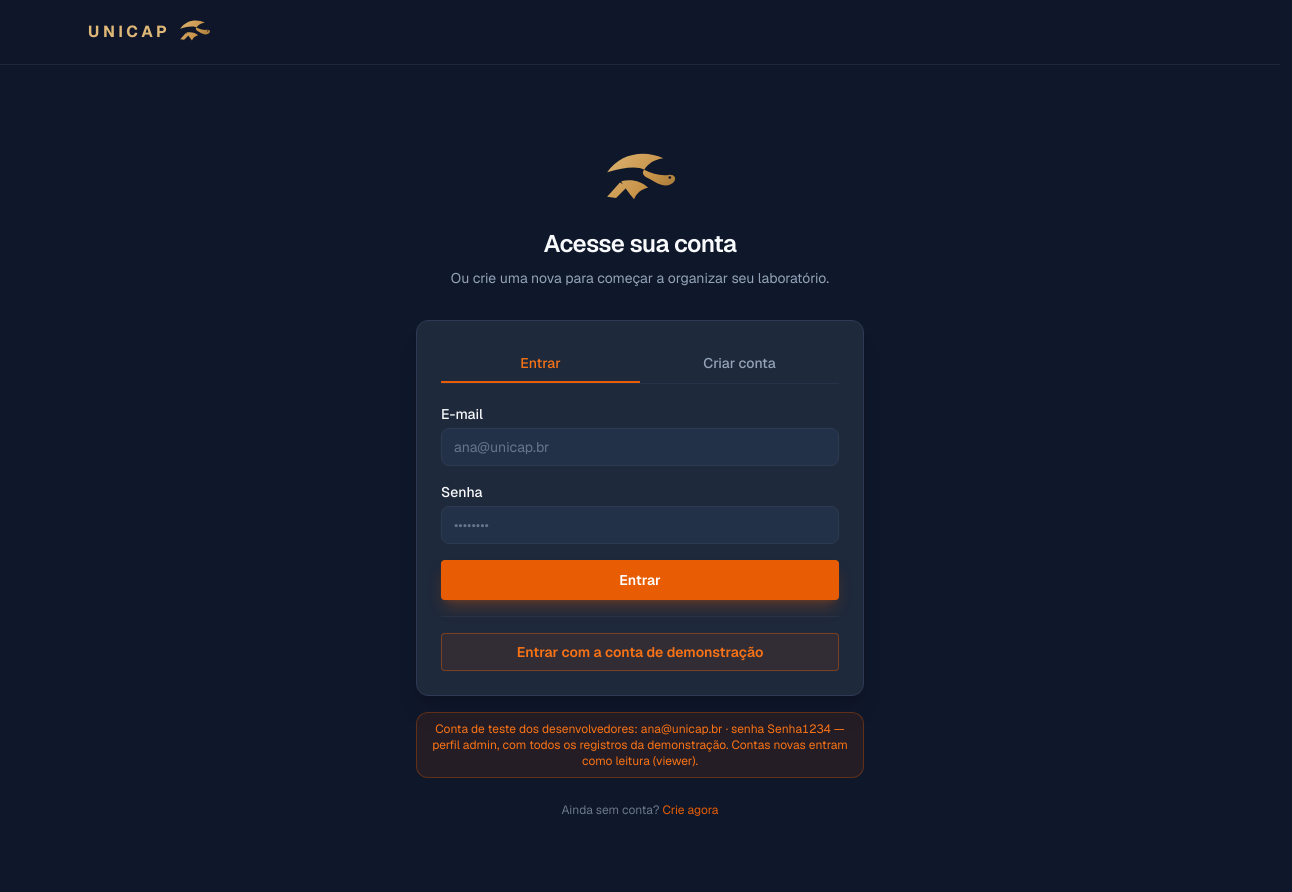
Test: Conta nova entra como usuário padrão (sem liberação manual) › na visão em grade, os cards do próprio projeto têm Editar
Check: the heading "Acesse sua conta" is shown, box [544,228,736,258]
Click the button "Criar conta" at (740, 364), box [640,344,839,382]
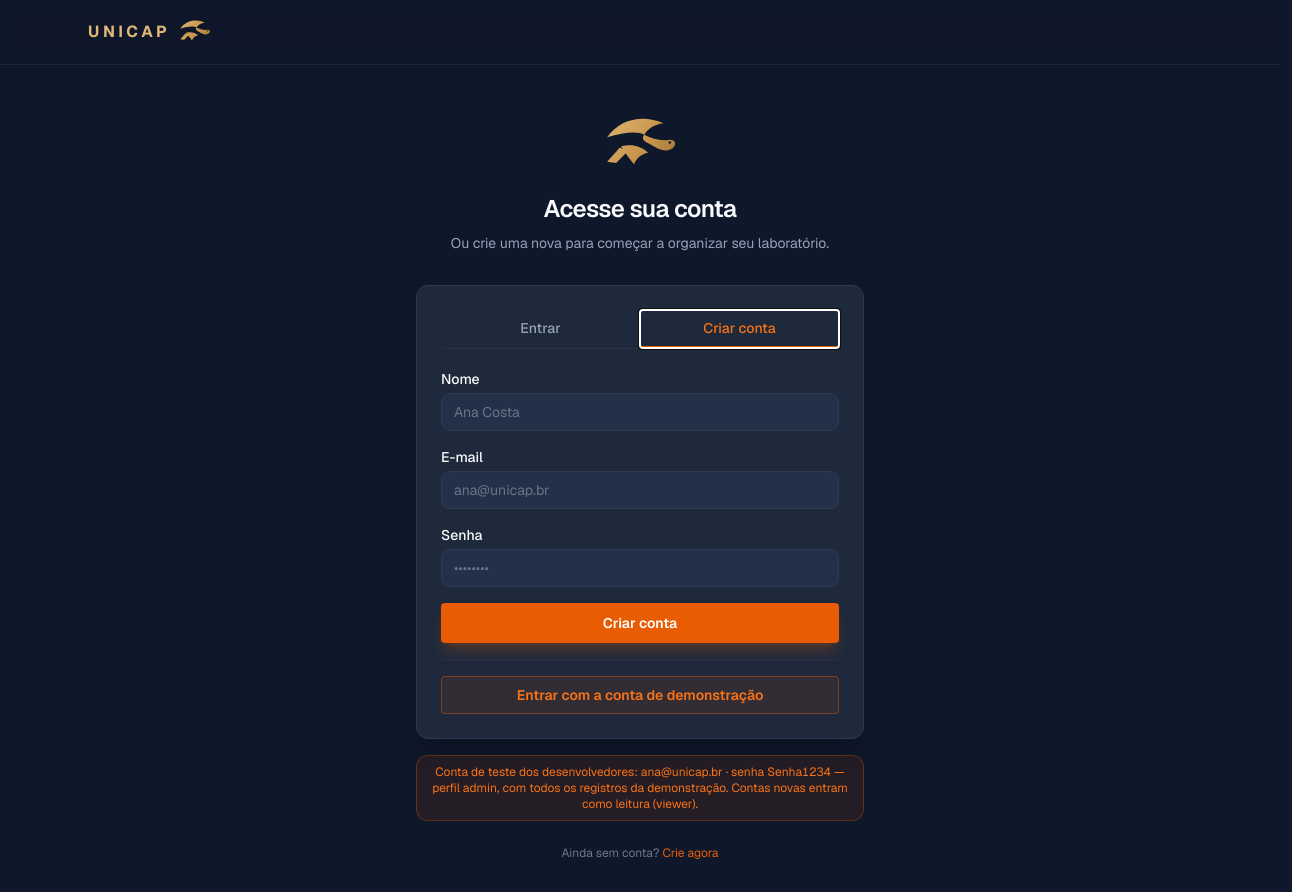
Type "Nova Pessoa" into the field with placeholder "Ana Costa" at (640, 412), box [441,393,839,431]
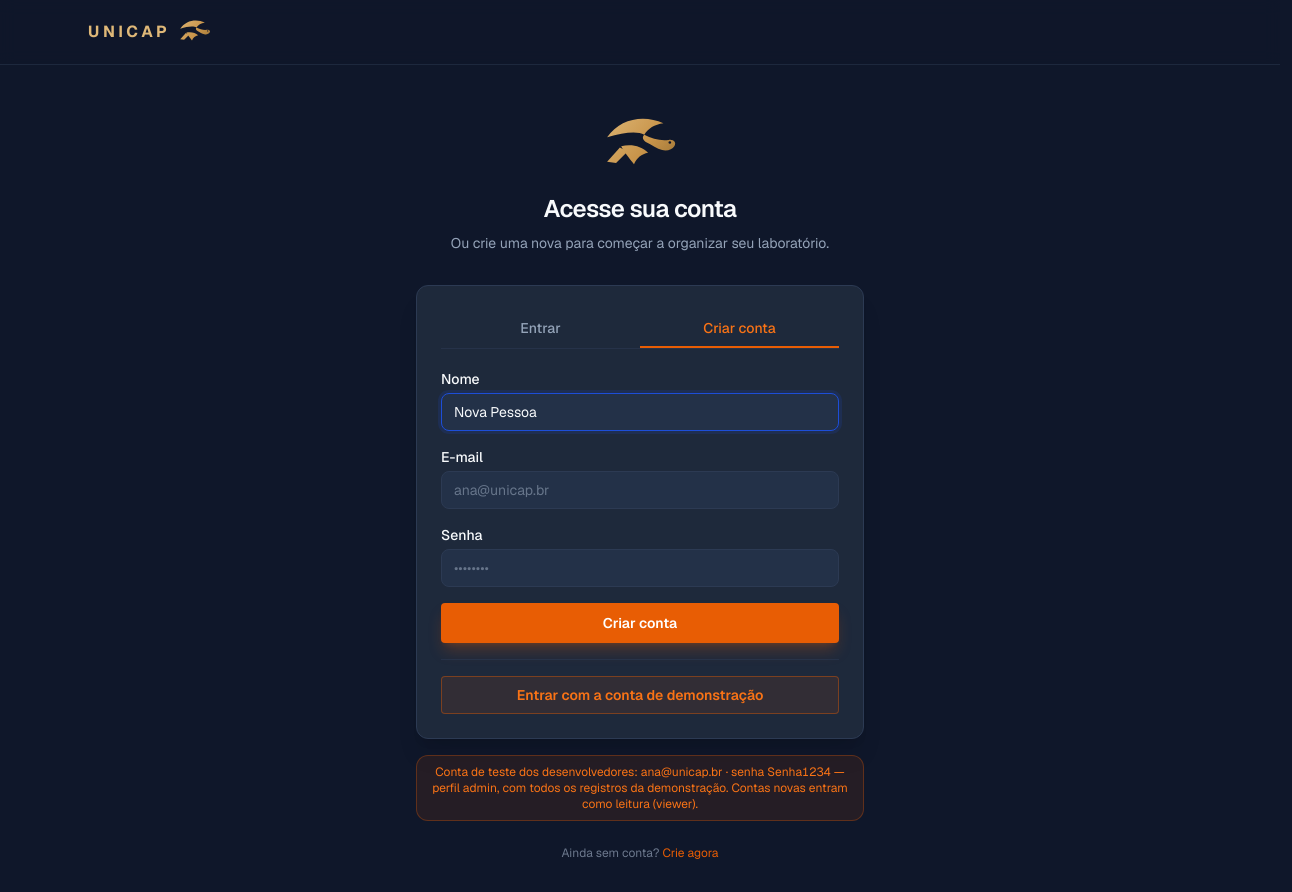
Type "viewer@unicap.br" into the field with placeholder "ana@unicap.br" at (640, 490), box [441,471,839,509]
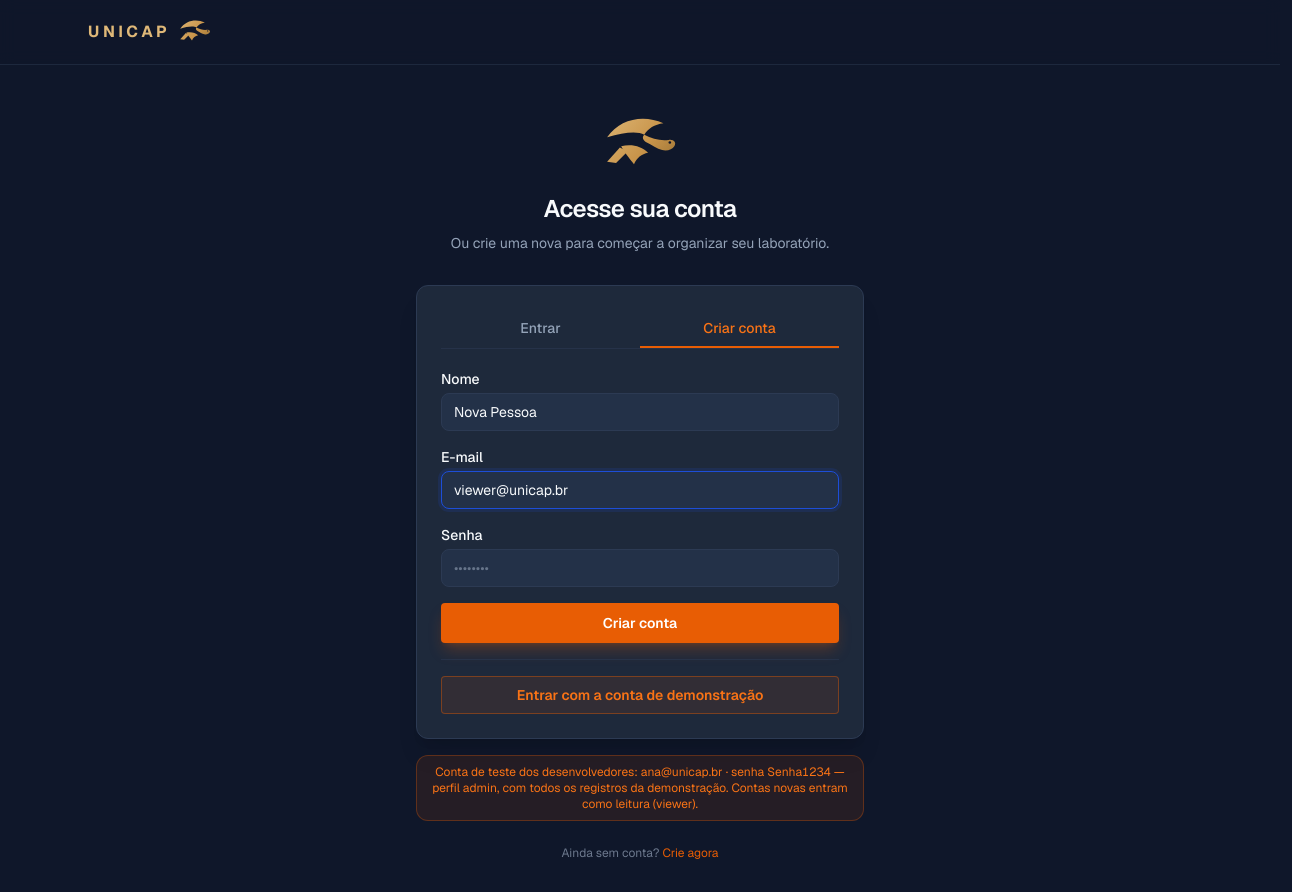
Type "Senha1234" into the password field with placeholder "••••••••" at (640, 568), box [441,549,839,587]
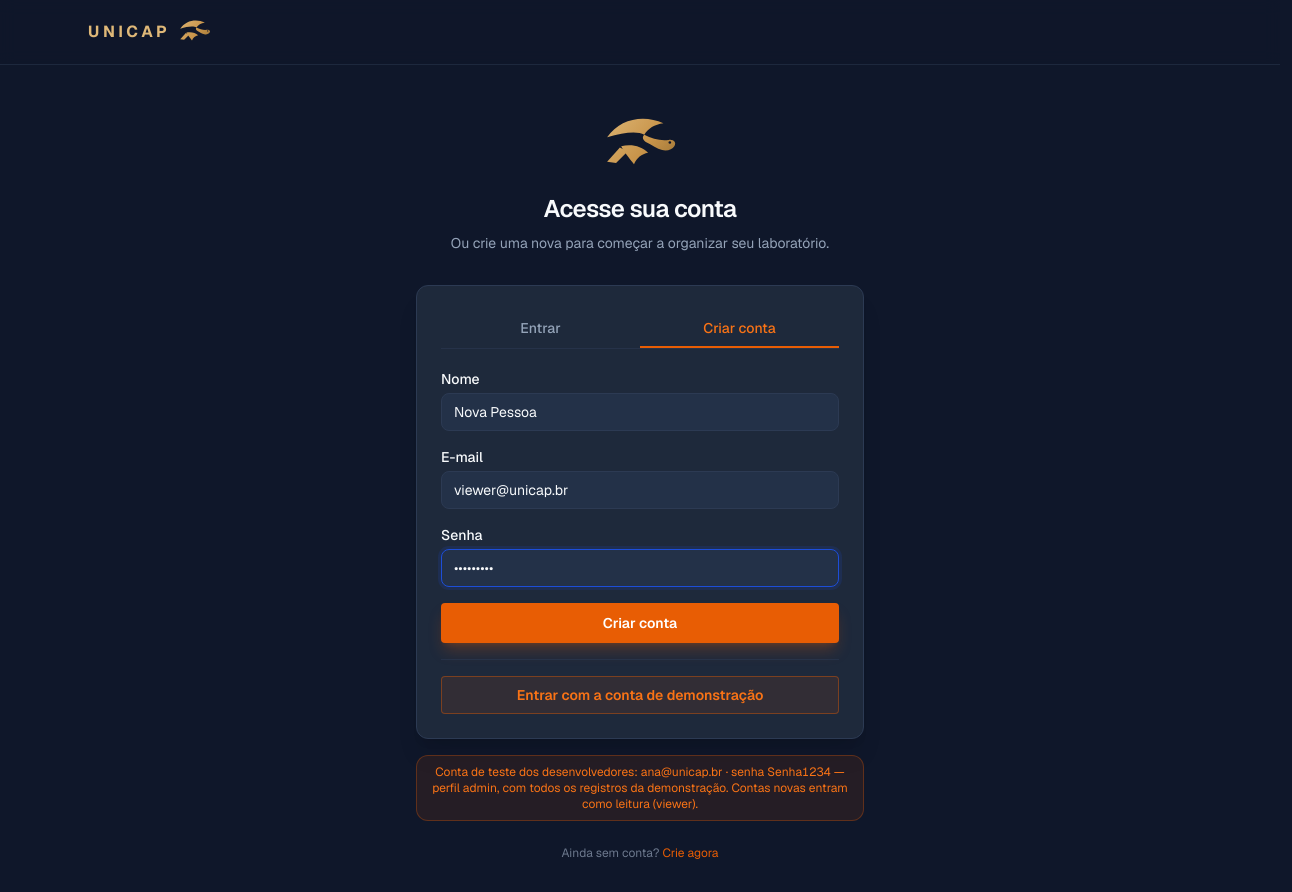
Click the button "Criar conta" below "E-mail" at (640, 623), box [441,603,839,643]
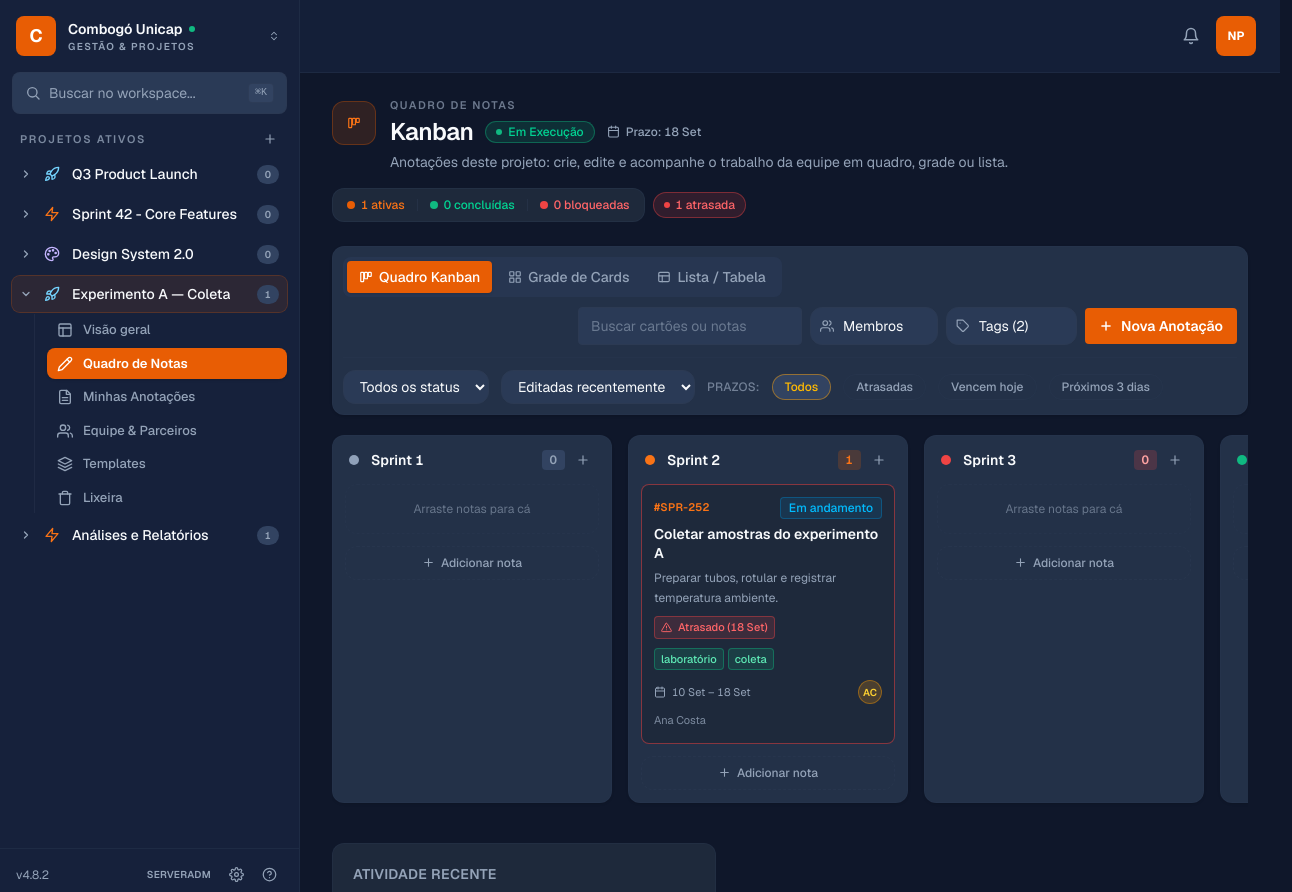
Check: the heading "Kanban" is shown, box [390,116,473,148]
Click the tab "Grade de Cards" at (569, 276), box [496,260,641,292]
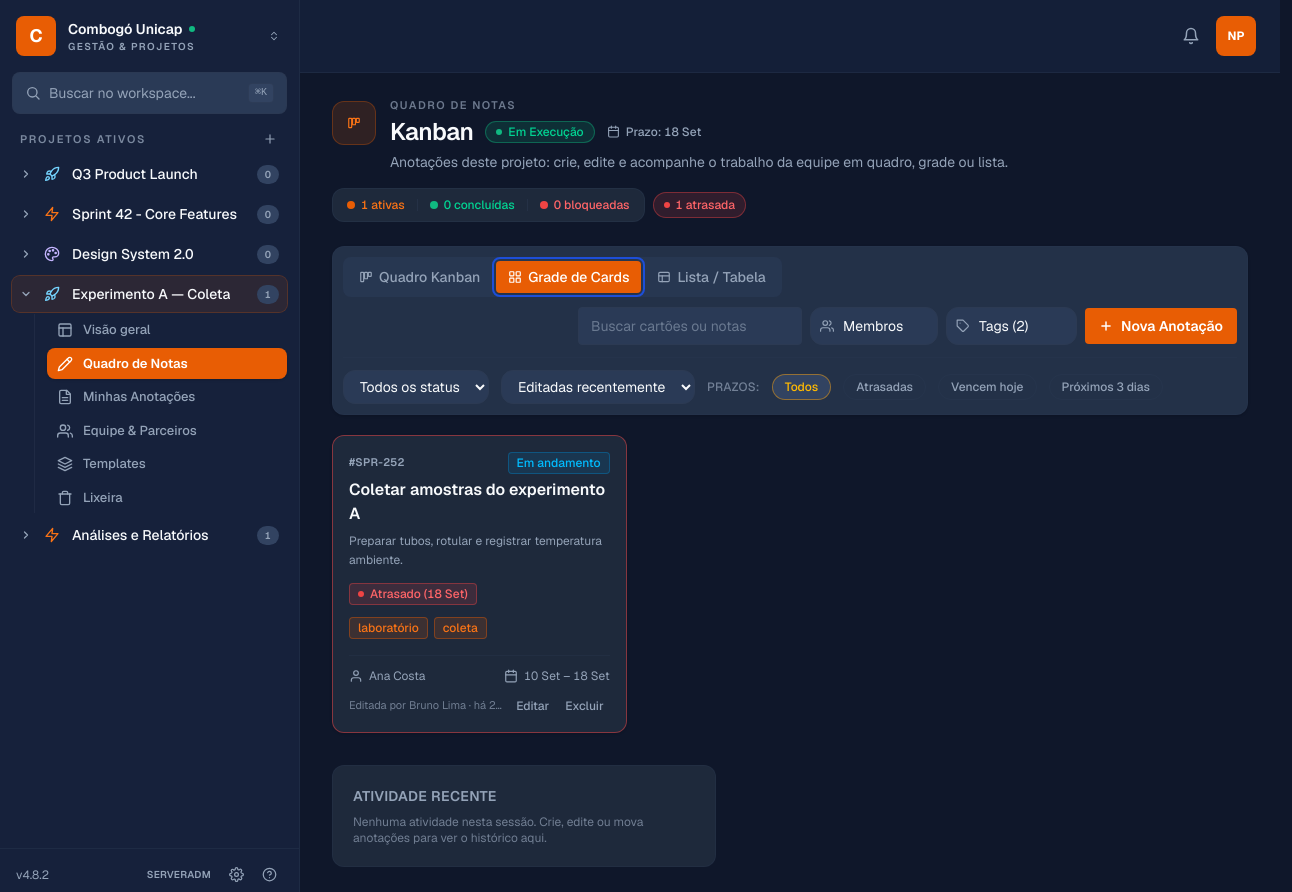
Check: the heading "Coletar amostras do experimento A" is shown, box [349,478,610,526]
Check: the button "Editar" is shown, box [510,696,555,716]
